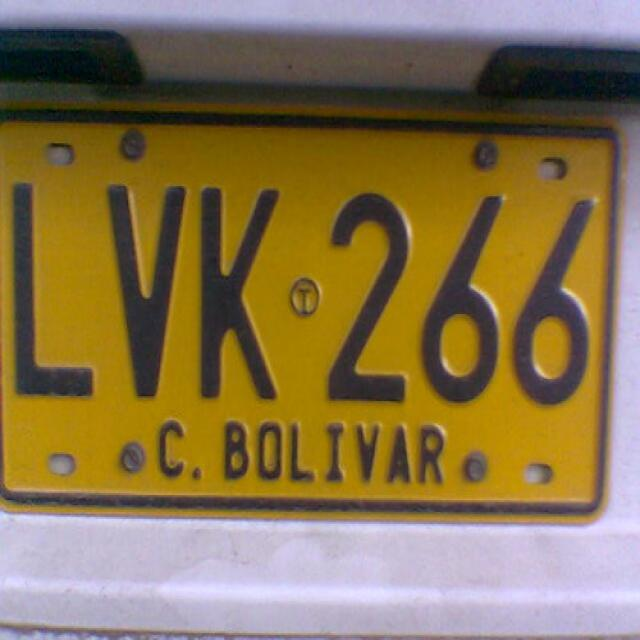placas: (0, 162, 622, 422)
